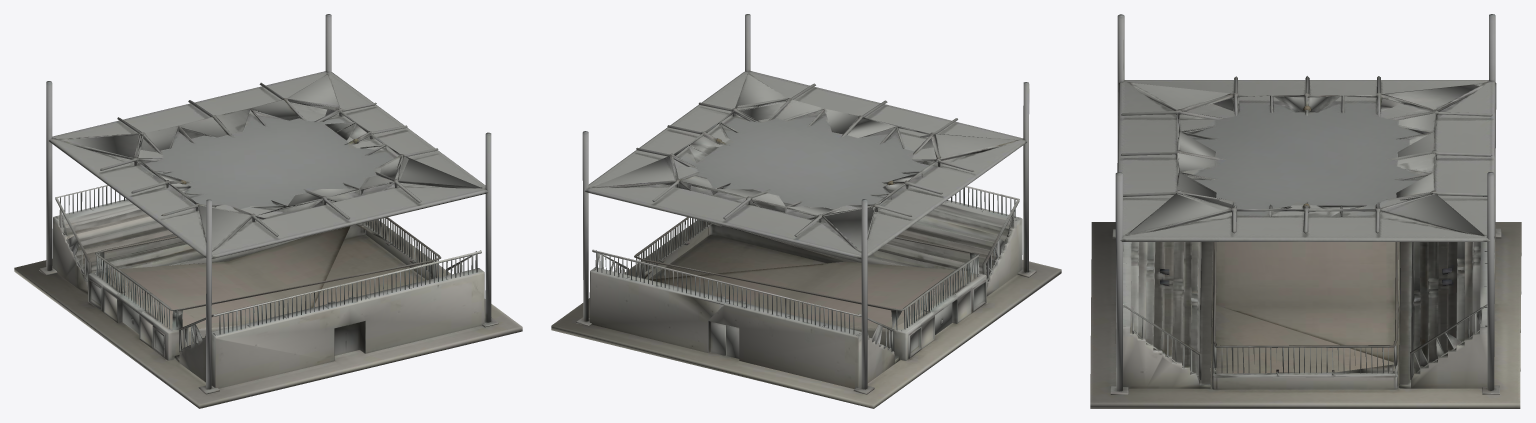
File: 742b7daf-ec0a-4827-9030-d8fd15b7a763_model.glb
The picture shows the model from 3 angles, left to right: view 1: azimuth 30°, elevation 25°; view 2: azimuth 150°, elevation 25°; view 3: azimuth 270°, elevation 25°; orthographic projection. The views are drawn at different scales.
Visible parts, largest first — view 1: tripo_node_742b7daf-ec0a-4827-9030-d8fd15b7a763; view 2: tripo_node_742b7daf-ec0a-4827-9030-d8fd15b7a763; view 3: tripo_node_742b7daf-ec0a-4827-9030-d8fd15b7a763.
Part boxes in pixels (x1=…): tripo_node_742b7daf-ec0a-4827-9030-d8fd15b7a763: x1=14, y1=14, x2=522, y2=408; tripo_node_742b7daf-ec0a-4827-9030-d8fd15b7a763: x1=551, y1=14, x2=1061, y2=408; tripo_node_742b7daf-ec0a-4827-9030-d8fd15b7a763: x1=1090, y1=14, x2=1521, y2=408.
Bounding box in the file's own units: 0.8693 × 0.5 × 0.8693.
1 material, 1 textured.
